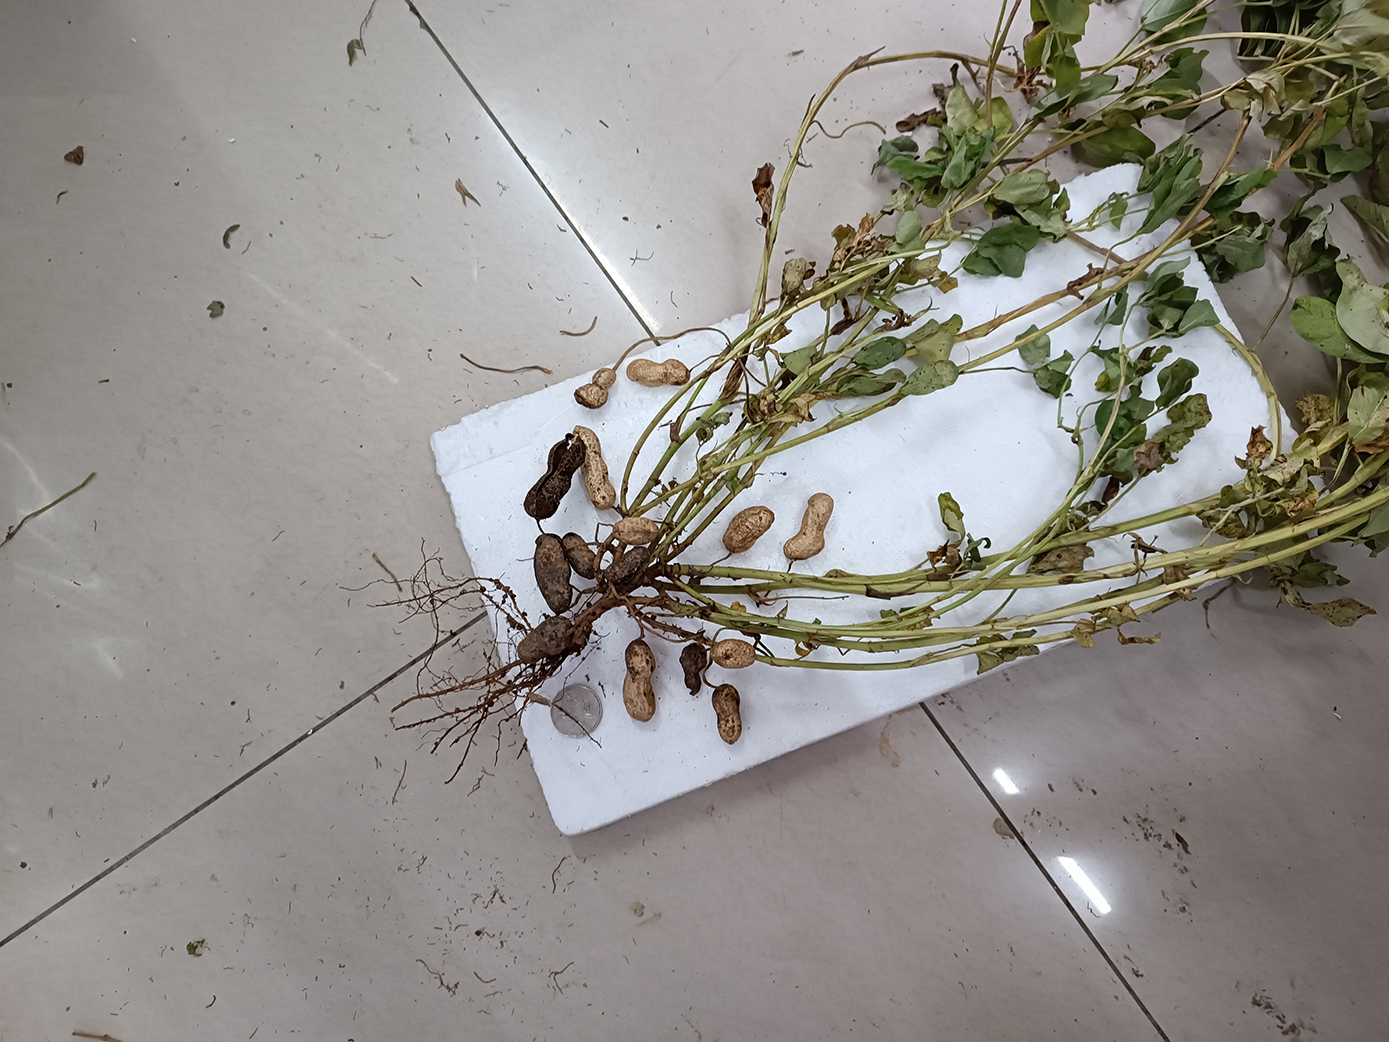h: (571, 425, 616, 509), (784, 493, 835, 559), (622, 641, 656, 721), (721, 505, 775, 552), (625, 357, 690, 387), (572, 367, 616, 408), (711, 638, 757, 668), (612, 518, 660, 544)
l: (523, 433, 586, 519), (532, 533, 572, 612), (516, 616, 572, 662), (711, 681, 743, 745), (603, 545, 649, 588), (562, 533, 598, 578), (679, 644, 709, 695)
